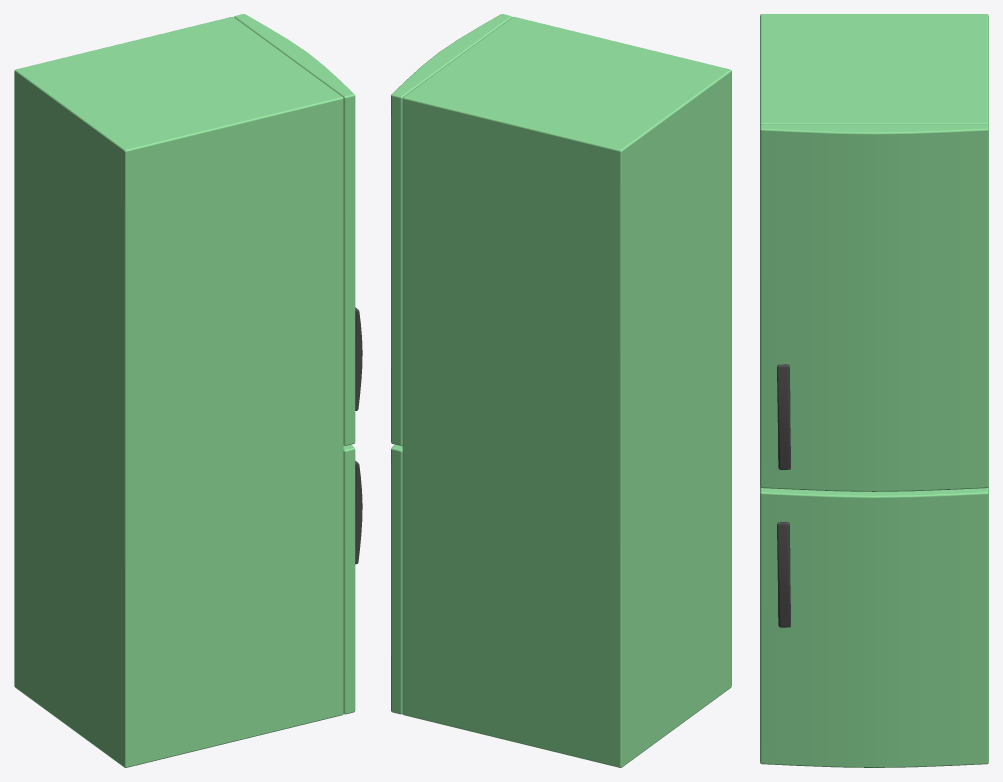
The model's file is fridge.fbx.
The picture shows the model from 3 angles, left to right: view 1: azimuth 30°, elevation 25°; view 2: azimuth 150°, elevation 25°; view 3: azimuth 270°, elevation 25°; orthographic projection. The views are drawn at different scales.
Parts seen in each view (by area): view 1: Cube.018, Plane; view 2: Cube.018; view 3: Cube.018, Plane.
Part boxes in pixels (left/top/right/bottom): Cube.018: left=14, top=14, right=355, bottom=767; Plane: left=355, top=307, right=362, bottom=564; Cube.018: left=391, top=14, right=731, bottom=767; Cube.018: left=760, top=14, right=988, bottom=767; Plane: left=777, top=364, right=790, bottom=627.
Bounding box in the file's own units: 76.84 × 184 × 60.01.
